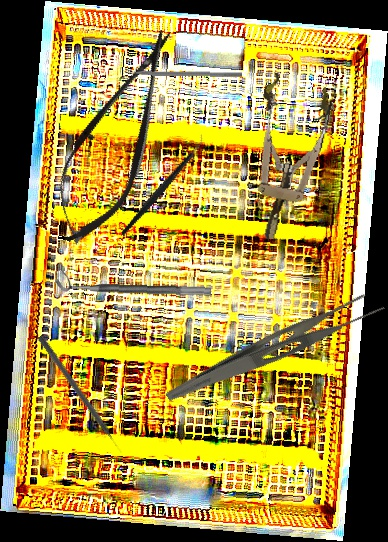Chopper: (97, 132, 227, 237), (119, 63, 243, 78)
Dressing Forceps: (164, 278, 387, 426)
Fixation Ring: (54, 268, 212, 297)
Micro Scissor: (34, 15, 199, 257)
Pusher: (35, 334, 125, 456)
Speculum: (234, 71, 336, 246)
